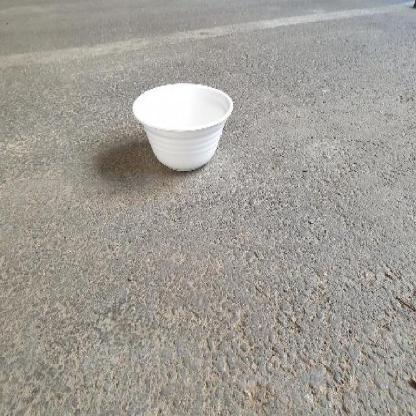Glass Cup: (133, 82, 233, 170), (133, 83, 232, 171)
